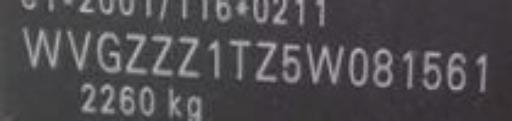letter: (17, 26, 63, 69), (304, 39, 346, 86), (172, 31, 204, 82), (92, 29, 122, 76), (280, 38, 306, 89), (64, 27, 92, 74), (224, 36, 252, 81), (122, 29, 148, 76), (149, 32, 175, 79), (253, 36, 279, 83), (346, 46, 370, 93), (468, 51, 494, 94), (419, 46, 443, 91), (395, 48, 419, 93), (446, 46, 468, 93), (370, 48, 394, 91), (204, 34, 224, 81)
